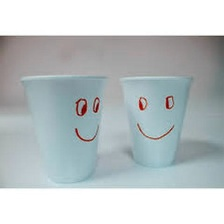paper_cup: (16, 70, 112, 187), (115, 69, 195, 170)
